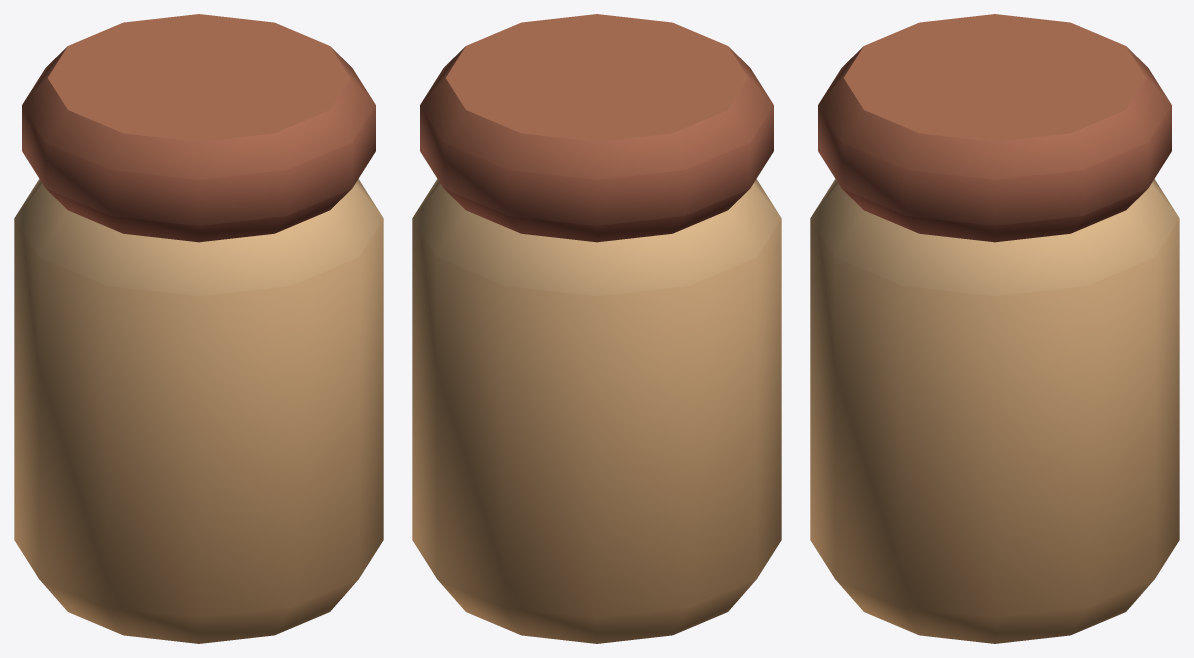
The model's file is kay-jar_c_large.glb.
3 views of the same model, side by side, from view 1: azimuth 30°, elevation 25°; view 2: azimuth 150°, elevation 25°; view 3: azimuth 270°, elevation 25° (orthographic).
Parts seen in each view (by area): view 1: jar_C_large; view 2: jar_C_large; view 3: jar_C_large.
Boxes of the visible parts, left/top/right/bottom form: jar_C_large: left=14, top=14, right=383, bottom=643; jar_C_large: left=412, top=14, right=781, bottom=643; jar_C_large: left=810, top=14, right=1179, bottom=643.
Bounding box in the file's own units: 0.1467 × 0.22 × 0.1467.
1 material, 1 textured.
